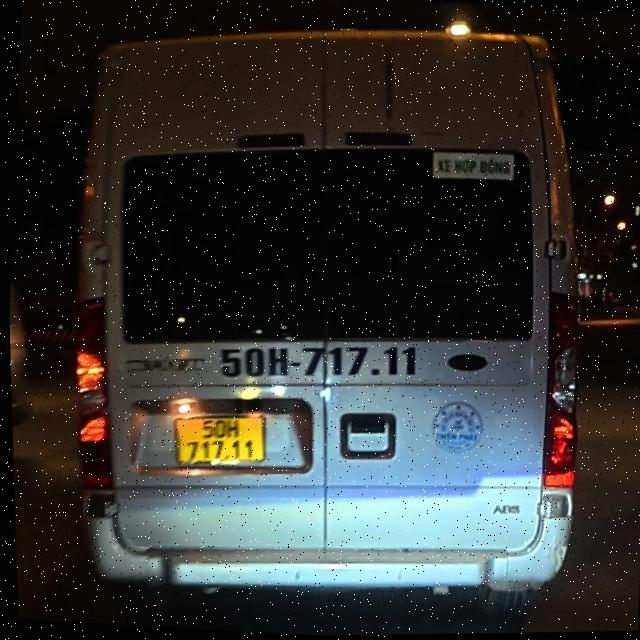car: (39, 0, 624, 639)
plate: (165, 402, 277, 475)
